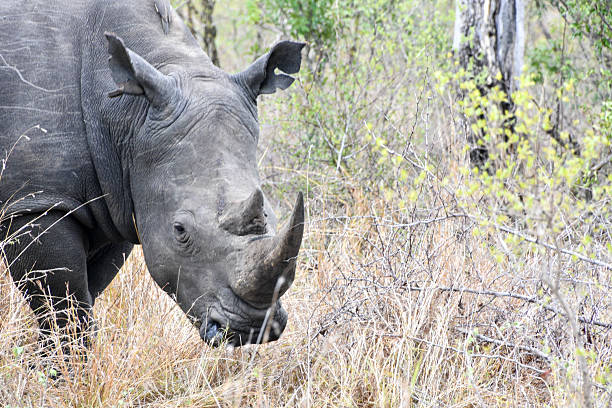rhino: (73, 22, 350, 367)
